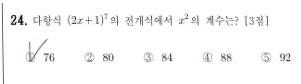choice: (23, 45, 38, 63)
not-choice: (141, 50, 154, 64), (200, 51, 214, 64), (82, 51, 95, 64), (259, 51, 272, 64)
